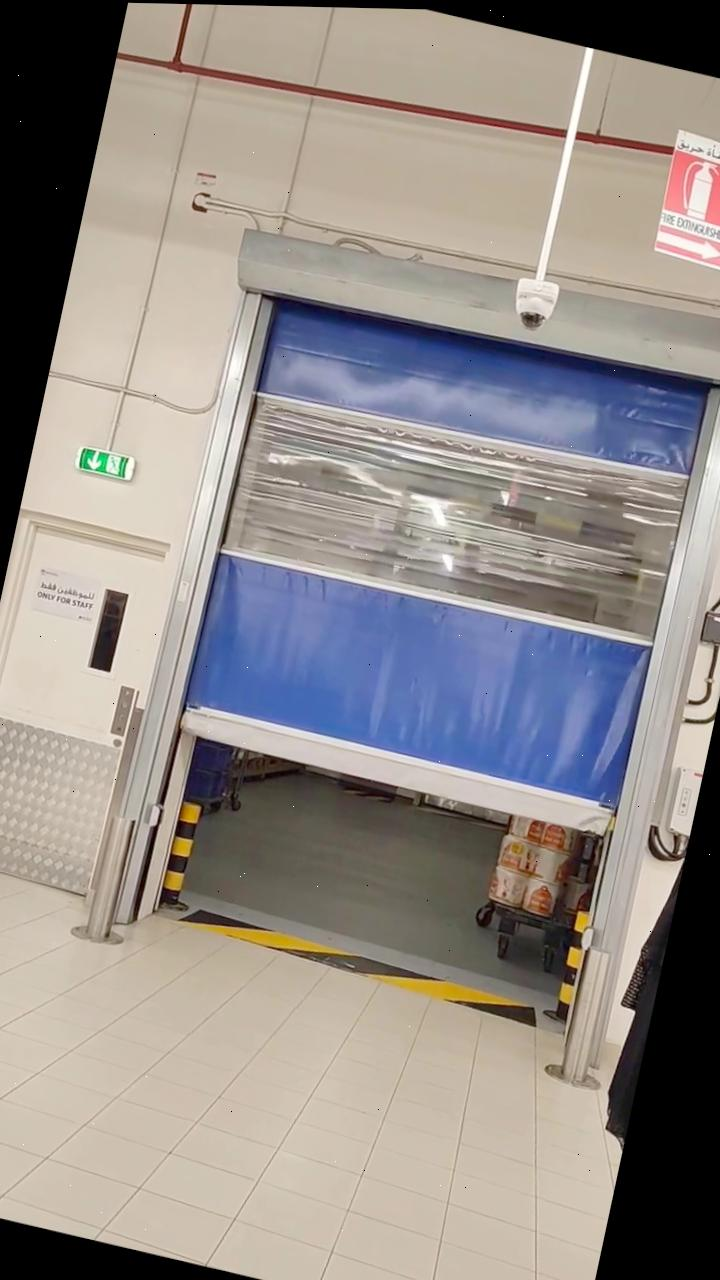Strip: (166, 886, 550, 1032)
